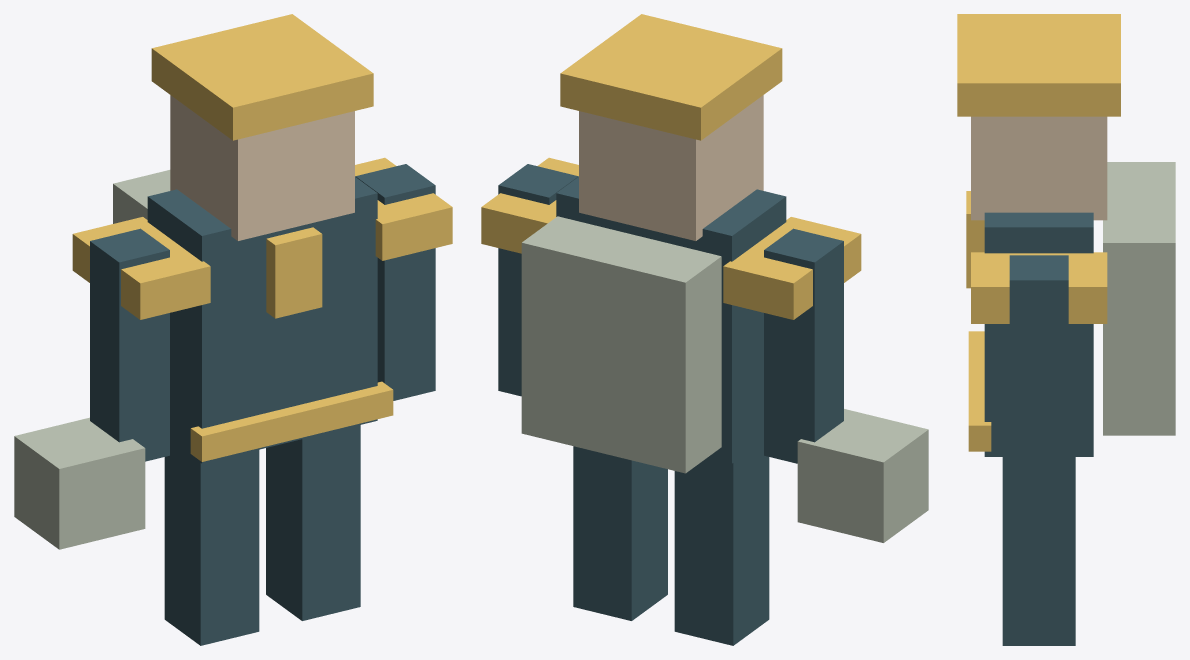
File: 02_brant_gravesong_responder_of.glb
The picture shows the model from 3 angles, left to right: view 1: azimuth 30°, elevation 25°; view 2: azimuth 150°, elevation 25°; view 3: azimuth 270°, elevation 25°; orthographic projection.
Parts seen in each view (by area): view 1: Brant Gravesong, Responder of; view 2: Brant Gravesong, Responder of; view 3: Brant Gravesong, Responder of.
Part boxes in pixels (left/top/right/bottom): Brant Gravesong, Responder of: left=14, top=14, right=452, bottom=645; Brant Gravesong, Responder of: left=481, top=14, right=928, bottom=645; Brant Gravesong, Responder of: left=957, top=14, right=1175, bottom=645.
Bounding box in the file's own units: 1.02 × 1.39 × 0.4942.
